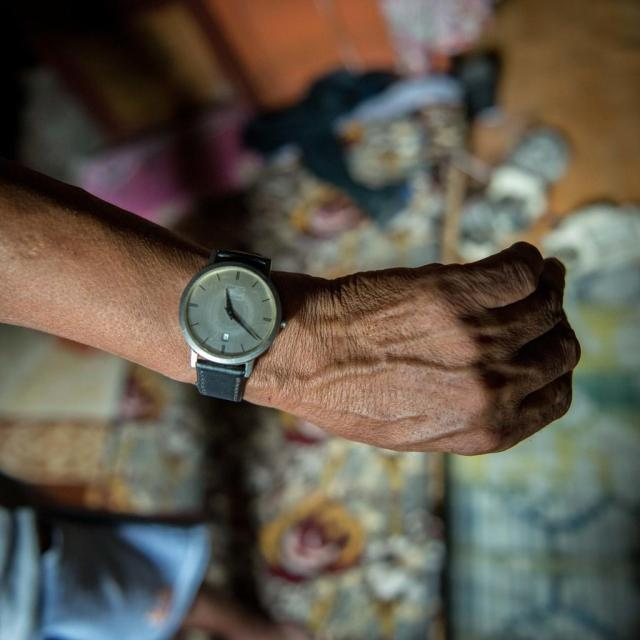Wrist watch: (177, 246, 287, 403)
